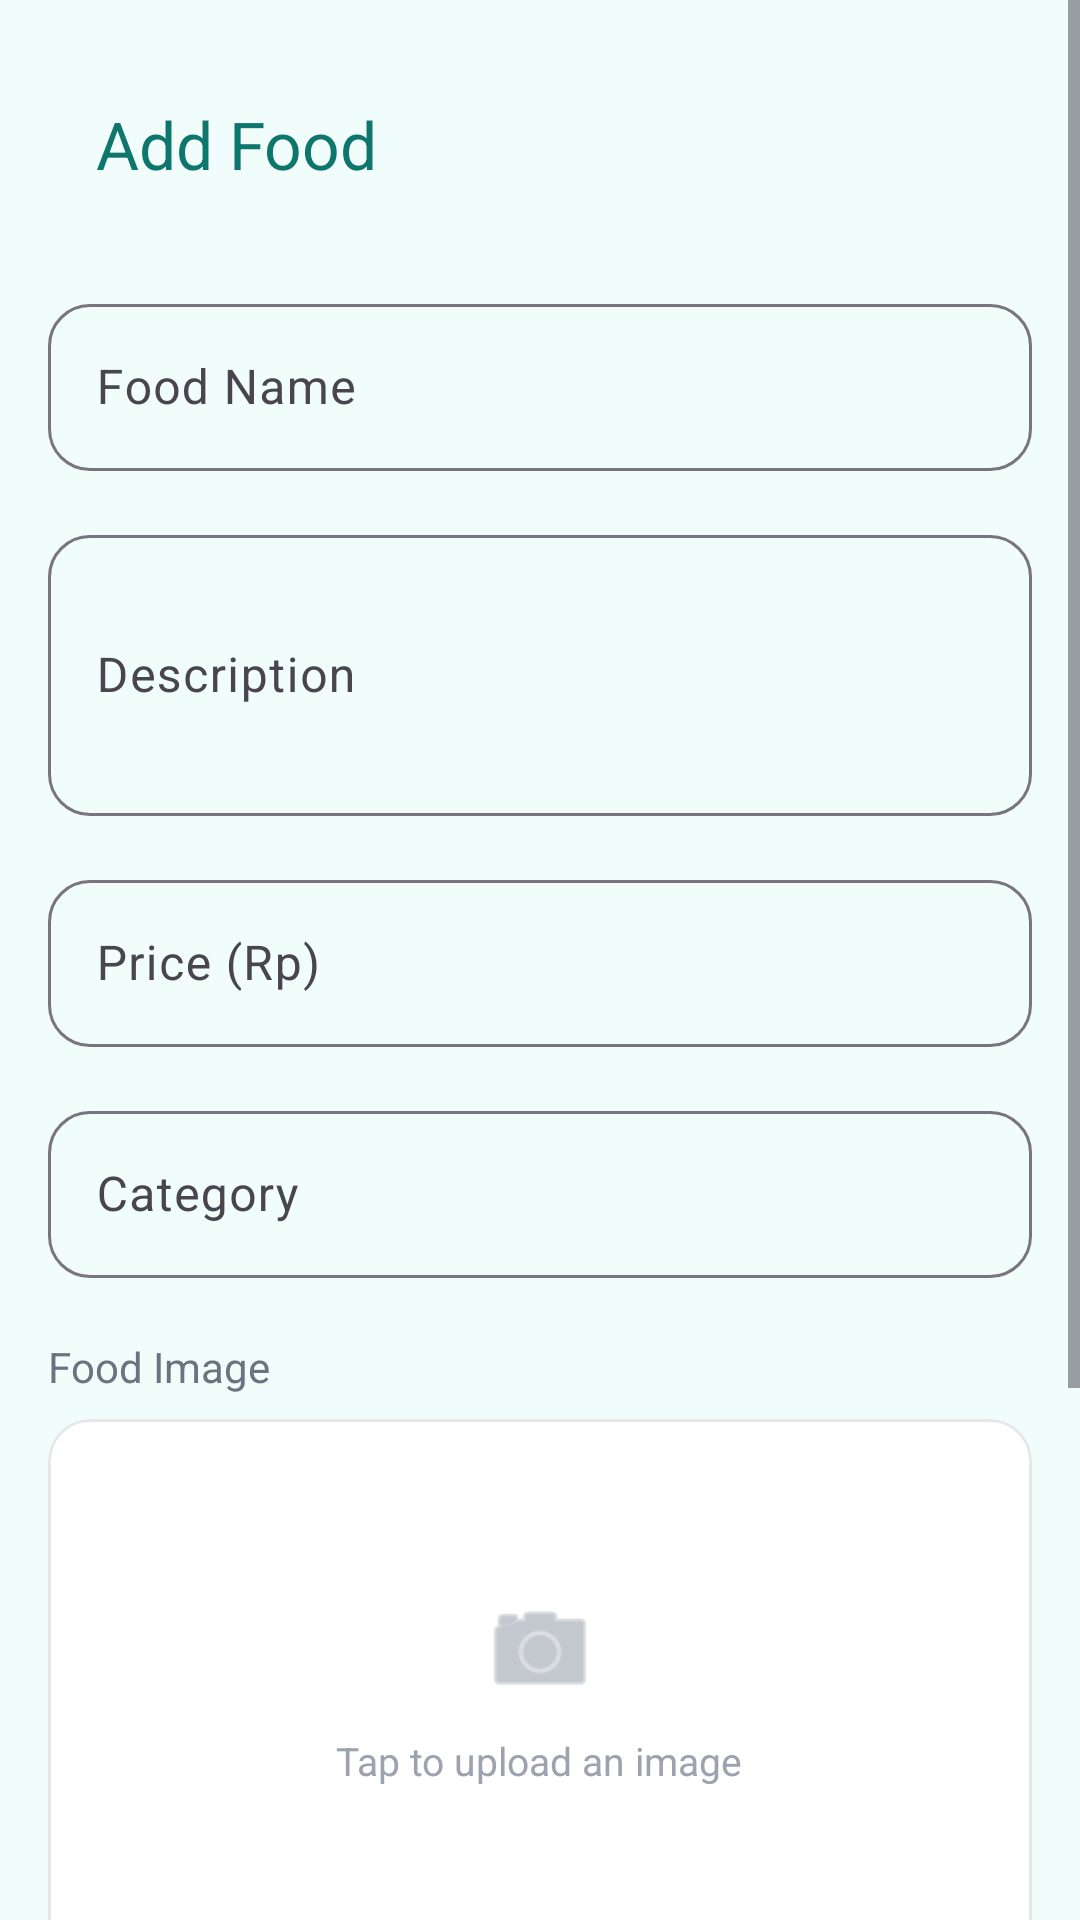

Screen size 1080×1920. Icon name, then its box in pixels as box=[x1, y1, x2, y2]:
camera: box=[494, 1612, 586, 1684]
